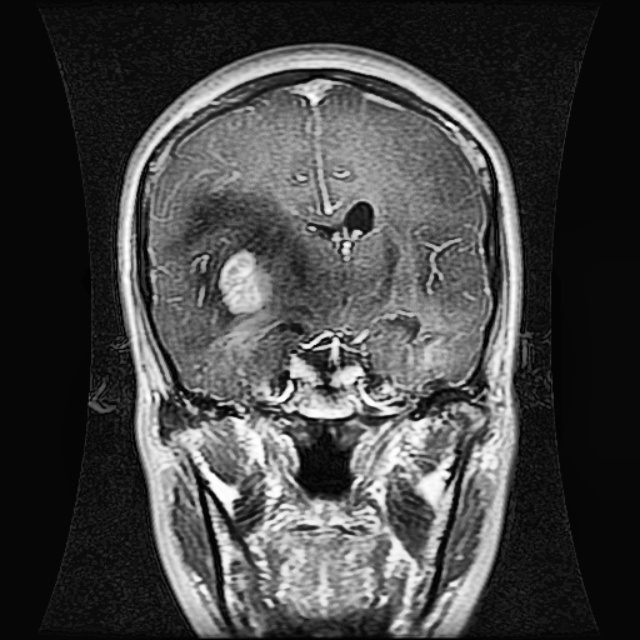Meningioma: (210, 240, 275, 325)
